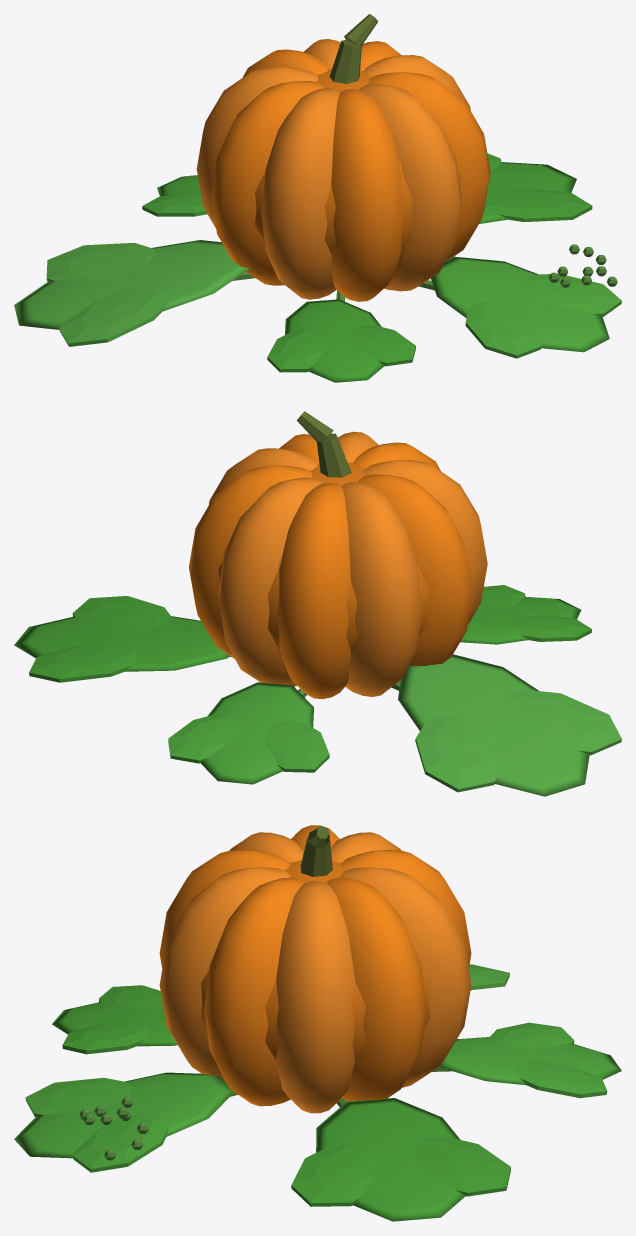
File: Planta_Pumpkin.fbx
The picture shows the model from 3 angles, top to bottom: view 1: azimuth 30°, elevation 25°; view 2: azimuth 150°, elevation 25°; view 3: azimuth 270°, elevation 25°; orthographic projection. The views are drawn at different scales.
Visible parts, largest first — view 1: Produto_Pumpkin, Corpo_Pumpkin; view 2: Produto_Pumpkin, Corpo_Pumpkin; view 3: Produto_Pumpkin, Corpo_Pumpkin.
Part boxes in pixels (bbox=[...]): Produto_Pumpkin: bbox=[196, 39, 490, 301]; Corpo_Pumpkin: bbox=[14, 14, 621, 382]; Produto_Pumpkin: bbox=[189, 431, 487, 699]; Corpo_Pumpkin: bbox=[14, 411, 621, 796]; Produto_Pumpkin: bbox=[159, 825, 471, 1113]; Corpo_Pumpkin: bbox=[14, 826, 621, 1221].
Size of the model in its own units: 4.62 by 2.1 by 4.04.
Materials: 1 (1 with a texture image).
